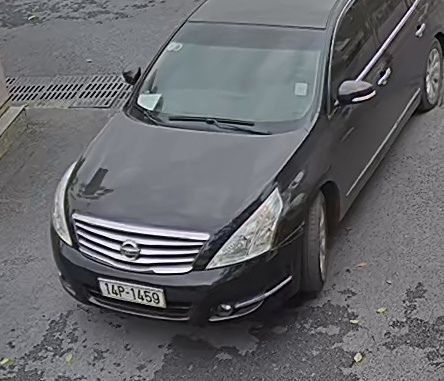vehicle plate: (96, 275, 163, 314)
